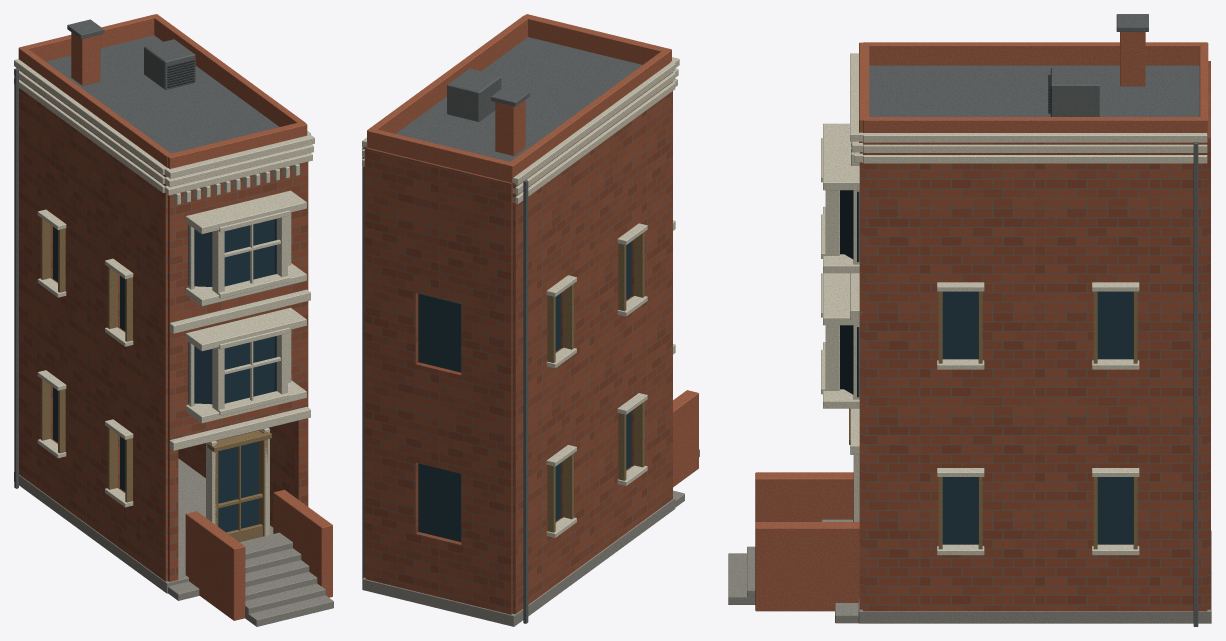
Rendered from VICT25_lod1.glb.
3 renders of one model, left to right at view 1: azimuth 30°, elevation 25°; view 2: azimuth 150°, elevation 25°; view 3: azimuth 270°, elevation 25°, orthographic. The views are drawn at different scales.
Visible parts, largest first — view 1: VICT25_LOD1; view 2: VICT25_LOD1; view 3: VICT25_LOD1.
Part boxes in pixels (bbox=[...]): VICT25_LOD1: bbox=[14, 14, 333, 626]; VICT25_LOD1: bbox=[362, 14, 699, 626]; VICT25_LOD1: bbox=[728, 14, 1211, 626].
Bounding box in the file's own units: 3.71 × 10.45 × 8.43.
9 materials, 7 textured.
